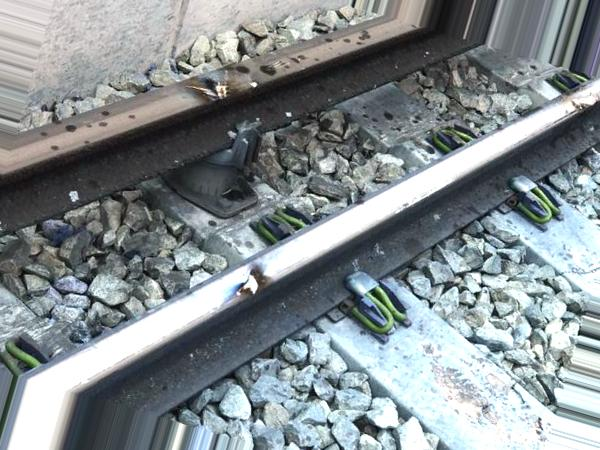tracks_fault: (198, 239, 310, 324), (547, 77, 600, 157)
